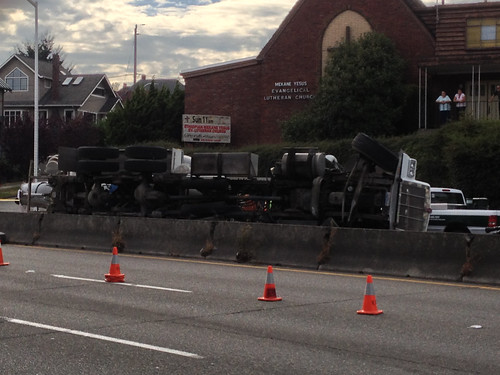building: (191, 1, 495, 141), (1, 56, 126, 146)
road: (7, 238, 500, 375)
sky: (1, 1, 263, 69)
traffic cone: (257, 262, 283, 305), (357, 273, 383, 316), (100, 243, 126, 286)
truck: (46, 146, 438, 239)
